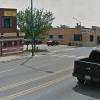Car: (67, 41, 100, 92)
